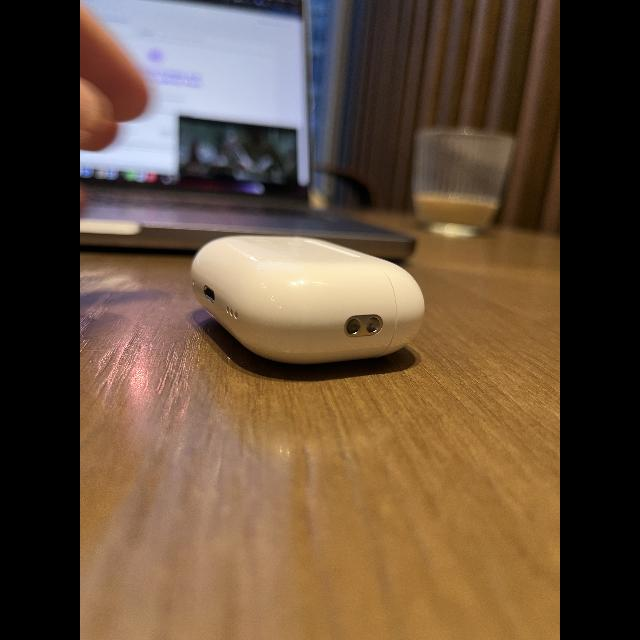AirPods Pro: (186, 227, 430, 375)
